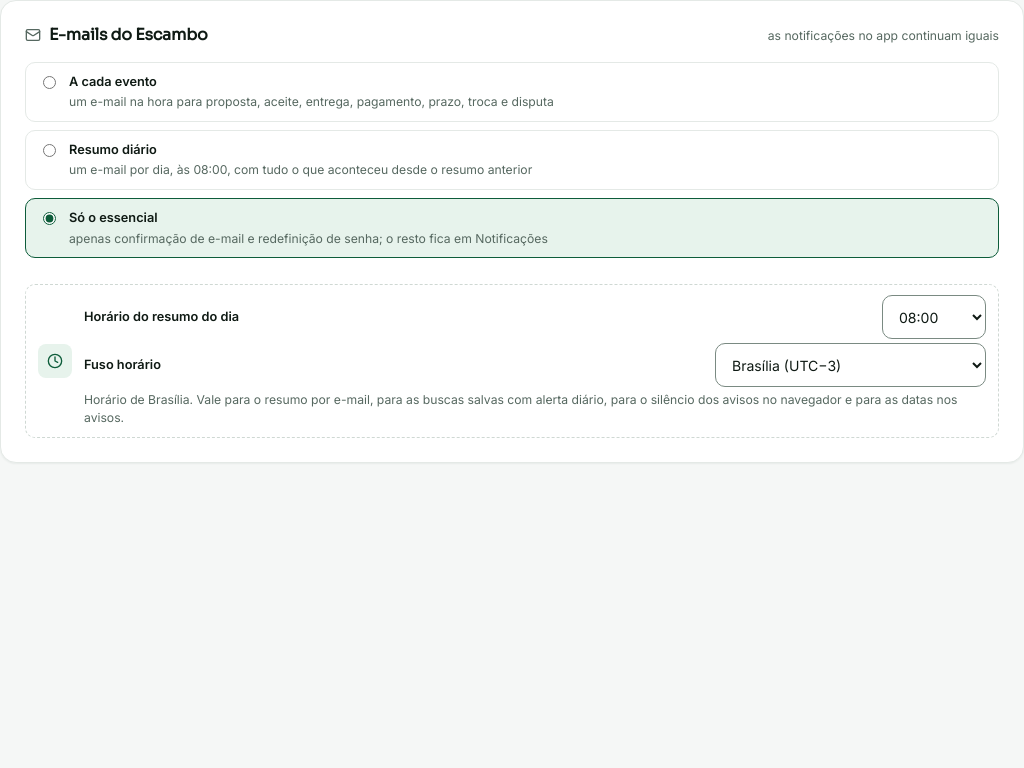
Test: cartão de e-mails: gravar a frequência › voltar para um e-mail a cada evento grava e confirma
The image size is (1024, 768).
Click the radio button labelled "A cada evento": point(50, 82) [43, 76, 56, 89]
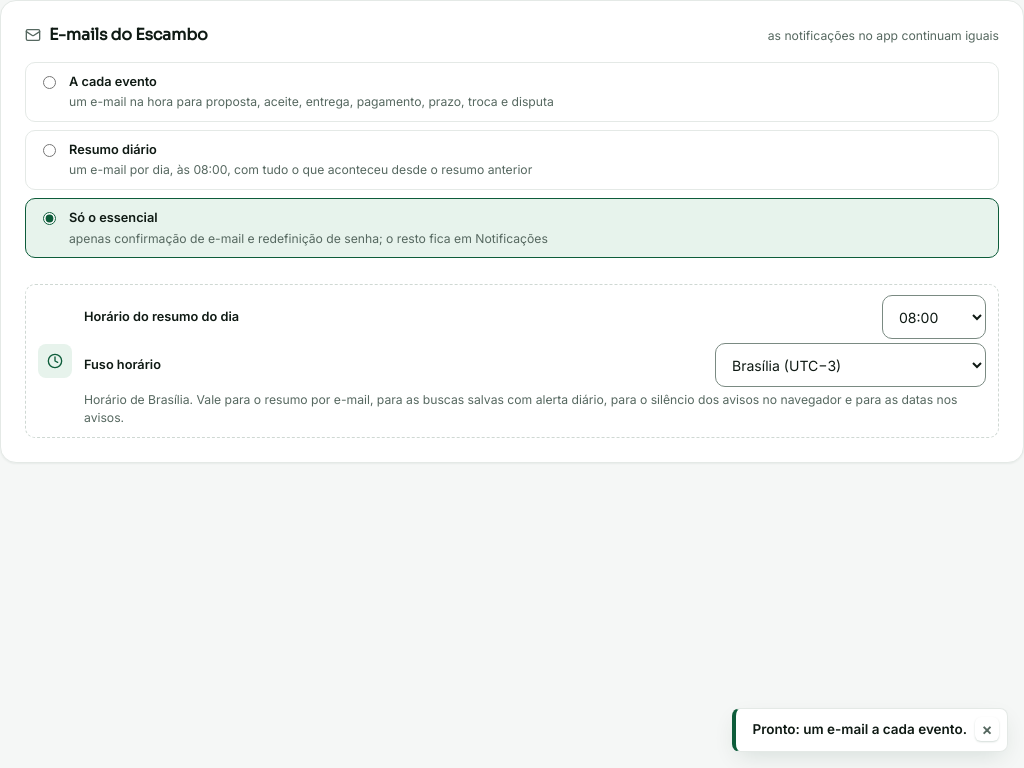
expect the text "Pronto: um e-mail a cada evento." is shown: met, box [752, 720, 967, 740]
